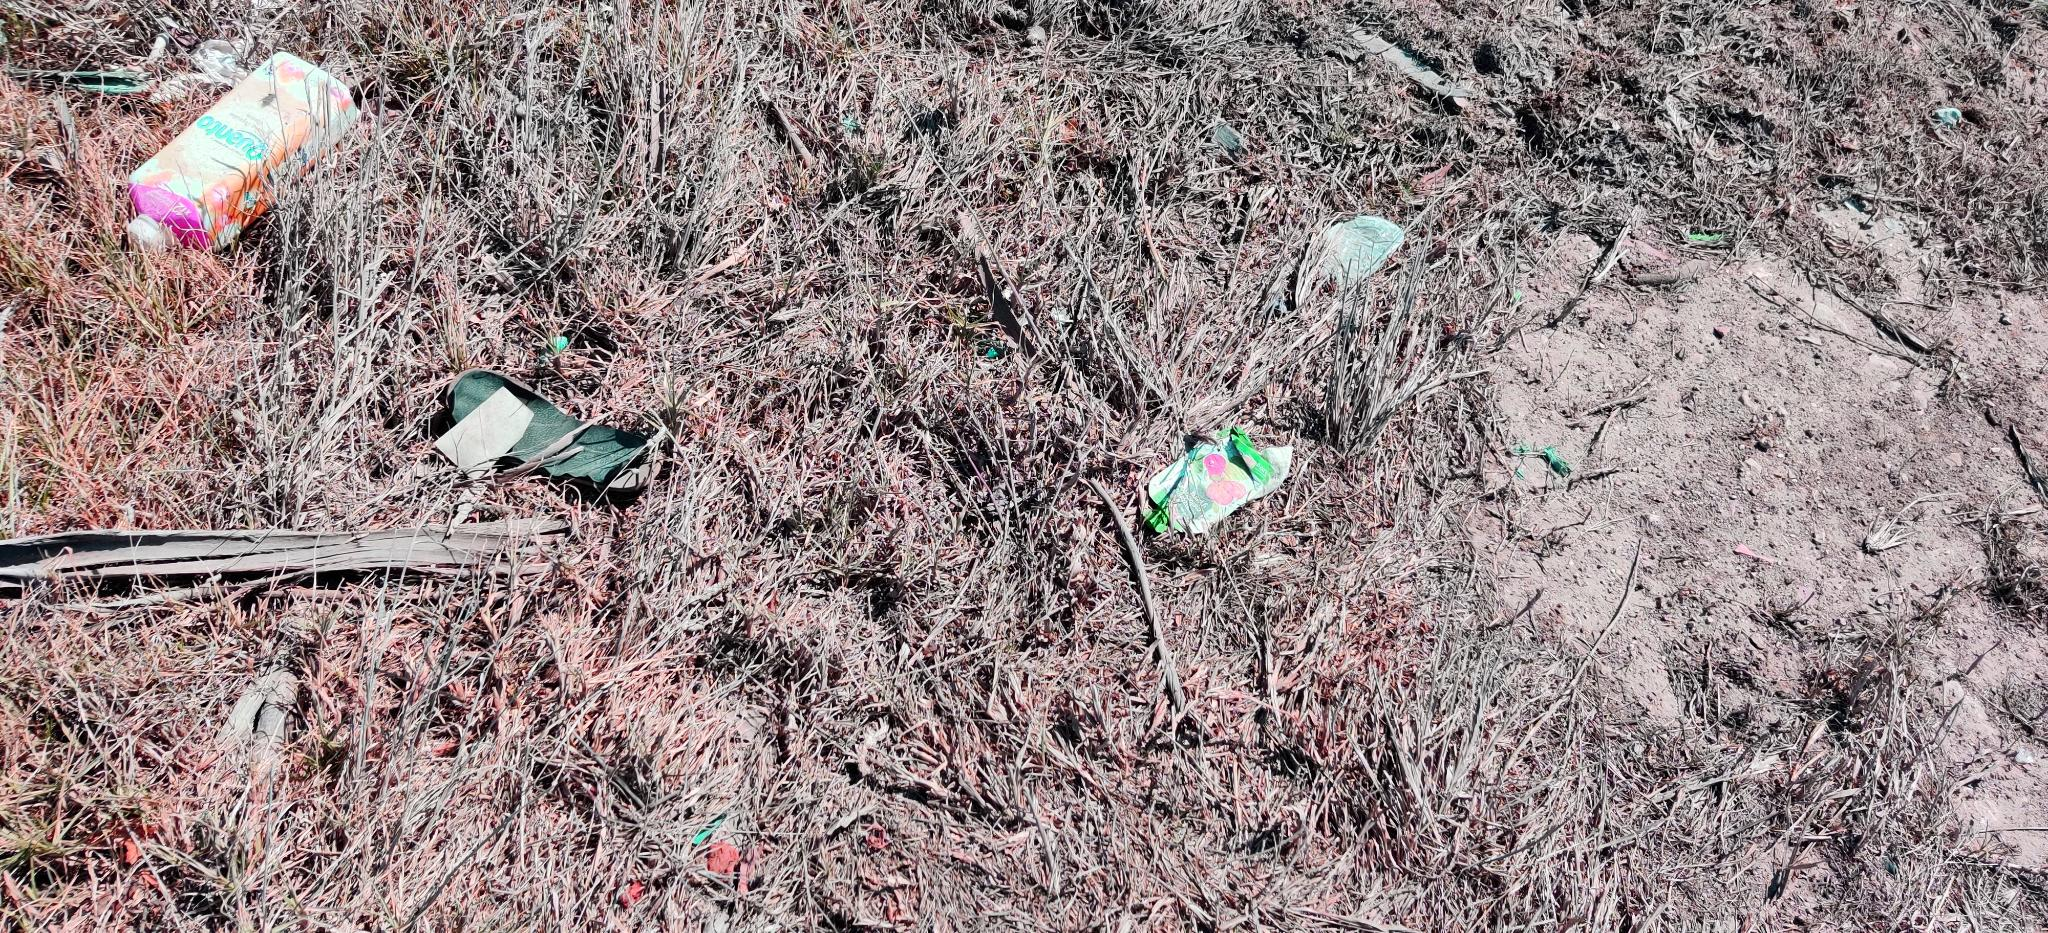Plastic: (405, 357, 683, 510), (1126, 419, 1304, 544)
